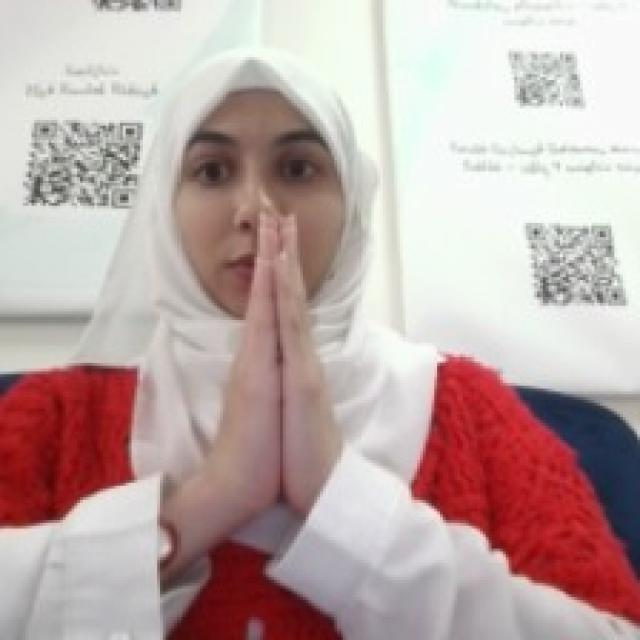sorry: (211, 206, 343, 511)
